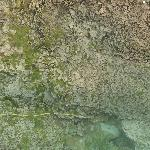dead: (3, 5, 145, 147)
